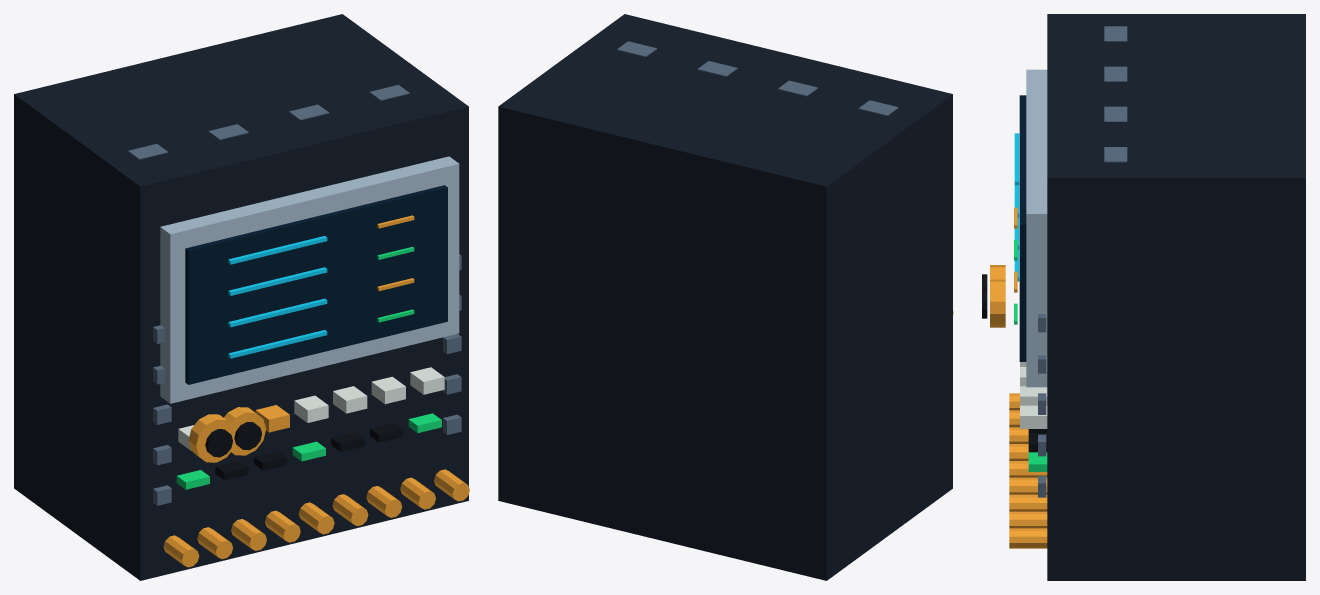
The model's file is 74_L88_GasMixingAndSamplingStation.fbx.
3 views of the same model, side by side, from view 1: azimuth 30°, elevation 25°; view 2: azimuth 150°, elevation 25°; view 3: azimuth 270°, elevation 25° (orthographic). The views are drawn at different scales.
Visible parts, largest first — view 1: L87_GasMixingAndSamplingStation_Part_0000, L87_GasMixingAndSamplingStation_Part_0002, L87_GasMixingAndSamplingStation_Part_0001, L87_GasMixingAndSamplingStation_Part_0004, L87_GasMixingAndSamplingStation_Part_0008, L87_GasMixingAndSamplingStation_Part_0006, L87_GasMixingAndSamplingStation_Part_0003, L87_GasMixingAndSamplingStation_Part_0007, L87_GasMixingAndSamplingStation_Part_0005, L87_GasMixingAndSamplingStation_Part_0009, L87_GasMixingAndSamplingStation_Part_0011, L87_GasMixingAndSamplingStation_Part_0010 (+1 smaller); view 2: L87_GasMixingAndSamplingStation_Part_0000, L87_GasMixingAndSamplingStation_Part_0008; view 3: L87_GasMixingAndSamplingStation_Part_0000, L87_GasMixingAndSamplingStation_Part_0001, L87_GasMixingAndSamplingStation_Part_0004, L87_GasMixingAndSamplingStation_Part_0008, L87_GasMixingAndSamplingStation_Part_0002, L87_GasMixingAndSamplingStation_Part_0006, L87_GasMixingAndSamplingStation_Part_0011, L87_GasMixingAndSamplingStation_Part_0003, L87_GasMixingAndSamplingStation_Part_0005.
Boxes of the visible parts, x1,y1,x2,y2 form: L87_GasMixingAndSamplingStation_Part_0000: (14,14,468,580); L87_GasMixingAndSamplingStation_Part_0002: (185,185,447,384); L87_GasMixingAndSamplingStation_Part_0001: (160,156,459,403); L87_GasMixingAndSamplingStation_Part_0004: (163,215,469,567); L87_GasMixingAndSamplingStation_Part_0008: (128,85,461,505); L87_GasMixingAndSamplingStation_Part_0006: (178,367,444,450); L87_GasMixingAndSamplingStation_Part_0003: (228,236,327,358); L87_GasMixingAndSamplingStation_Part_0007: (215,423,403,480); L87_GasMixingAndSamplingStation_Part_0005: (176,246,441,489); L87_GasMixingAndSamplingStation_Part_0009: (188,414,235,462); L87_GasMixingAndSamplingStation_Part_0011: (224,407,265,455); L87_GasMixingAndSamplingStation_Part_0010: (205,429,232,457); L87_GasMixingAndSamplingStation_Part_0000: (498,14,952,580); L87_GasMixingAndSamplingStation_Part_0008: (617,41,898,115); L87_GasMixingAndSamplingStation_Part_0000: (1047,14,1305,580); L87_GasMixingAndSamplingStation_Part_0001: (1026,69,1047,387); L87_GasMixingAndSamplingStation_Part_0004: (1009,207,1047,548); L87_GasMixingAndSamplingStation_Part_0008: (1038,26,1127,497); L87_GasMixingAndSamplingStation_Part_0002: (1019,95,1026,361); L87_GasMixingAndSamplingStation_Part_0006: (1020,362,1047,428); L87_GasMixingAndSamplingStation_Part_0011: (990,279,1005,327); L87_GasMixingAndSamplingStation_Part_0003: (1014,133,1019,281); L87_GasMixingAndSamplingStation_Part_0005: (1014,239,1047,471).
Bounding box in the file's own units: 104 × 120 × 86.88.
